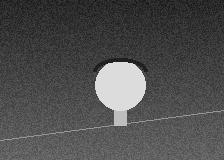no_helmet: (95, 58, 145, 115)
